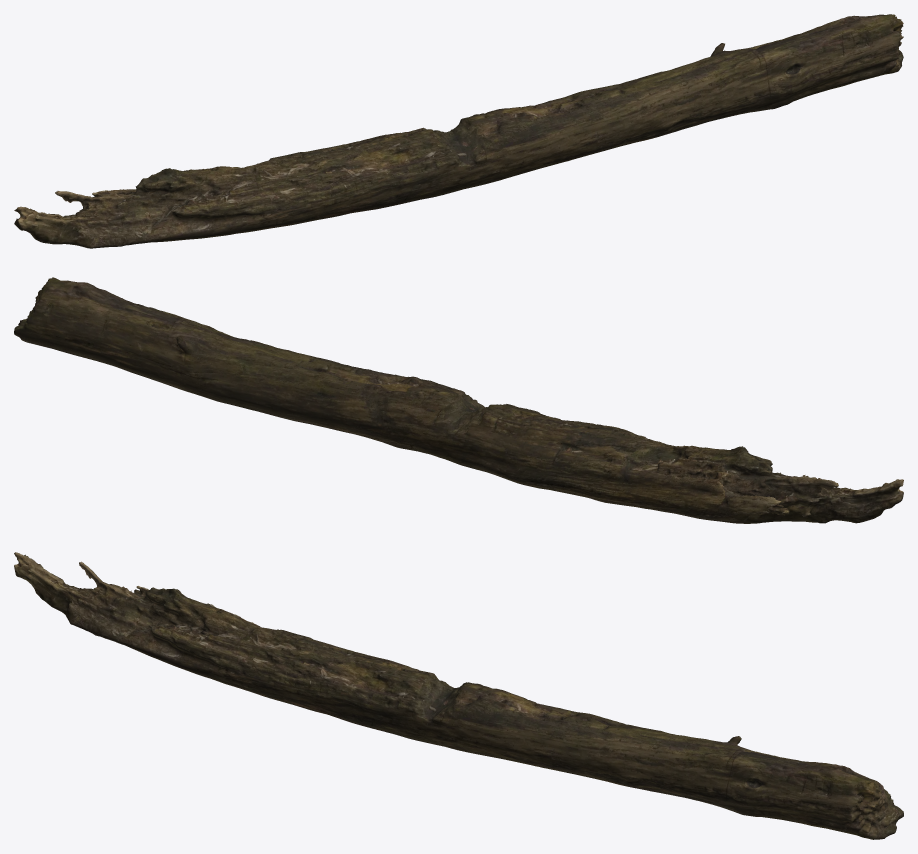
File: polyhaven-dead-tree-trunk.glb
3 views of the same model, one above another, from view 1: azimuth 30°, elevation 25°; view 2: azimuth 150°, elevation 25°; view 3: azimuth 330°, elevation 25° (orthographic).
Parts seen in each view (by area): view 1: dead_tree_trunk; view 2: dead_tree_trunk; view 3: dead_tree_trunk.
Boxes of the visible parts, <box> form: dead_tree_trunk: <box>14,14,903,248</box>; dead_tree_trunk: <box>14,277,903,523</box>; dead_tree_trunk: <box>14,552,903,839</box>.
Size of the model in its own units: 3.05 by 0.2905 by 0.2775.
Materials: 1 (1 with a texture image).
